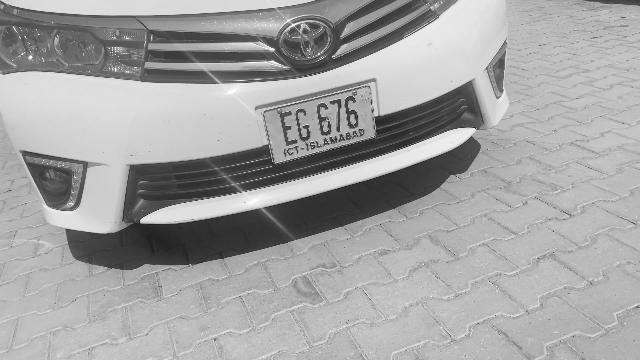Number: (275, 93, 364, 150)
